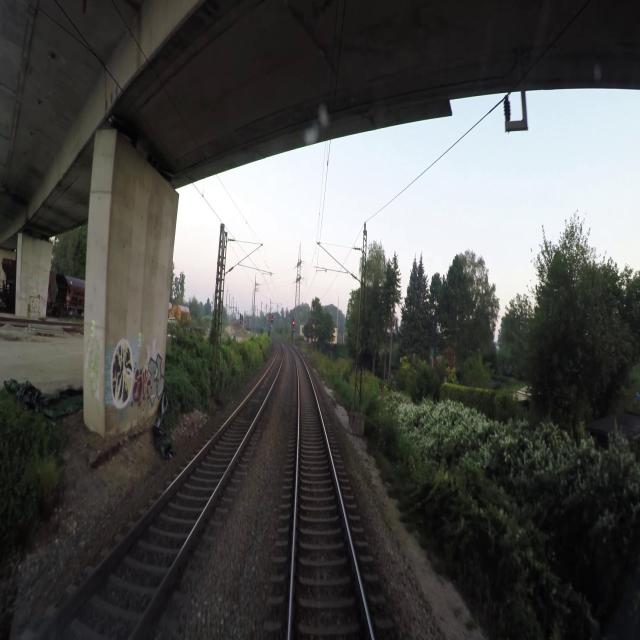rail-track: (31, 345, 281, 639), (292, 352, 371, 639)
